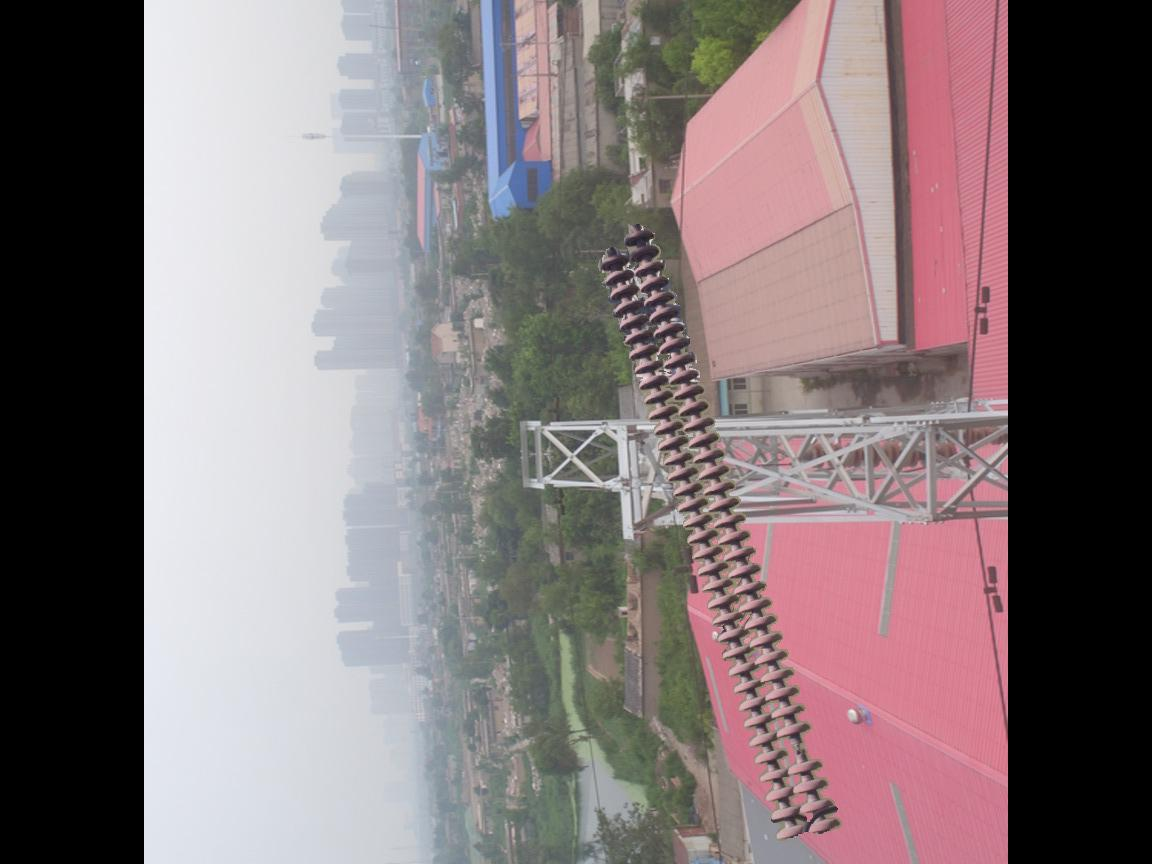insulator: (592, 223, 843, 845), (804, 425, 983, 472)
insulator_stringdrop: (773, 719, 825, 779)
